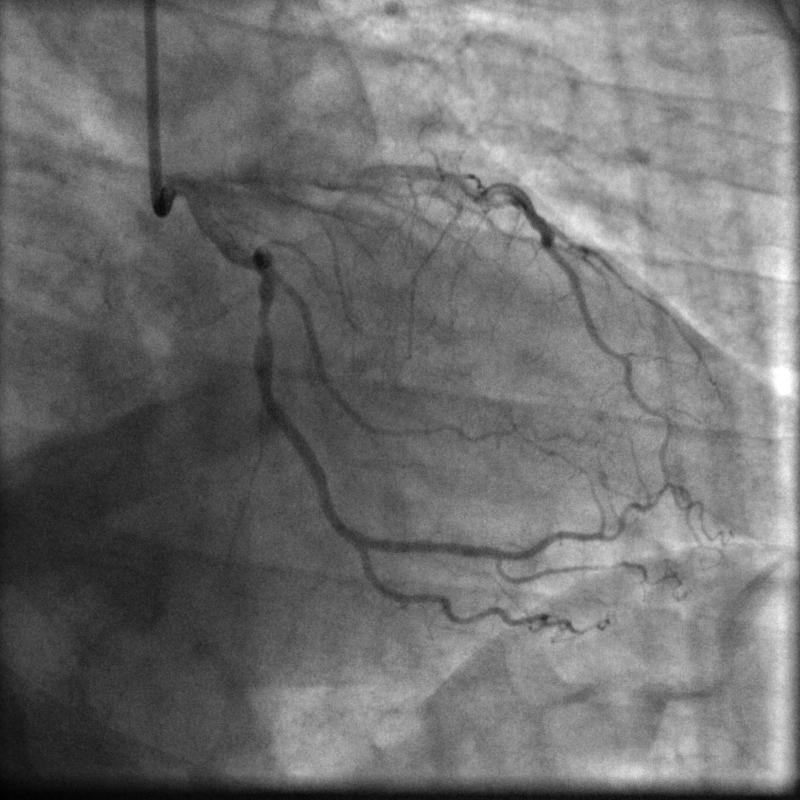Stenosis: (255, 311, 272, 336)
